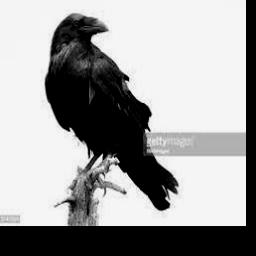Crow: (44, 12, 179, 213)
